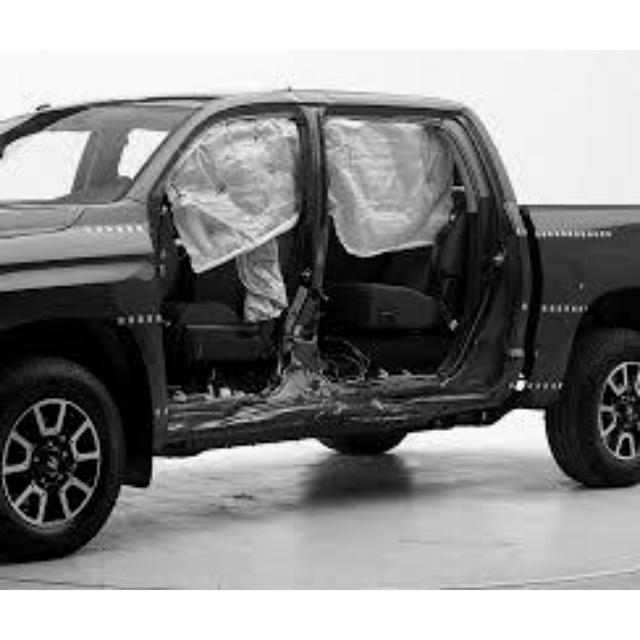Runningboard-Damage: (168, 378, 498, 438)
doorouter-dent: (150, 109, 323, 394), (336, 106, 485, 363)
